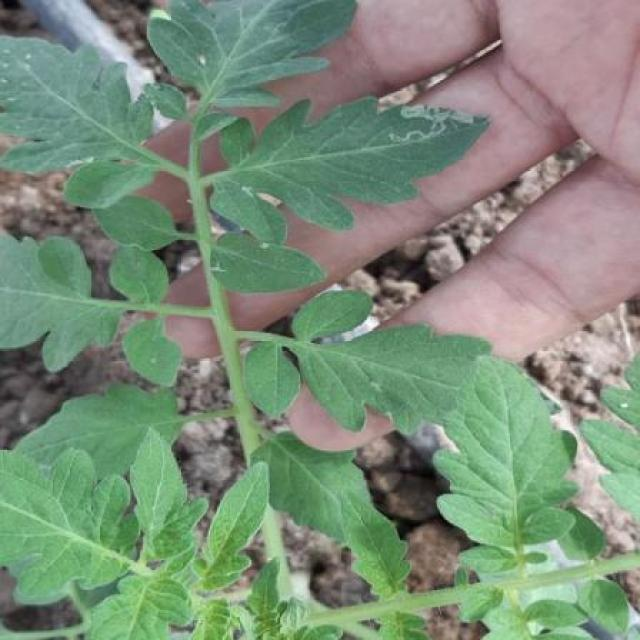Healthy: (425, 356, 581, 546)
Leaf Miner: (207, 94, 487, 245)
